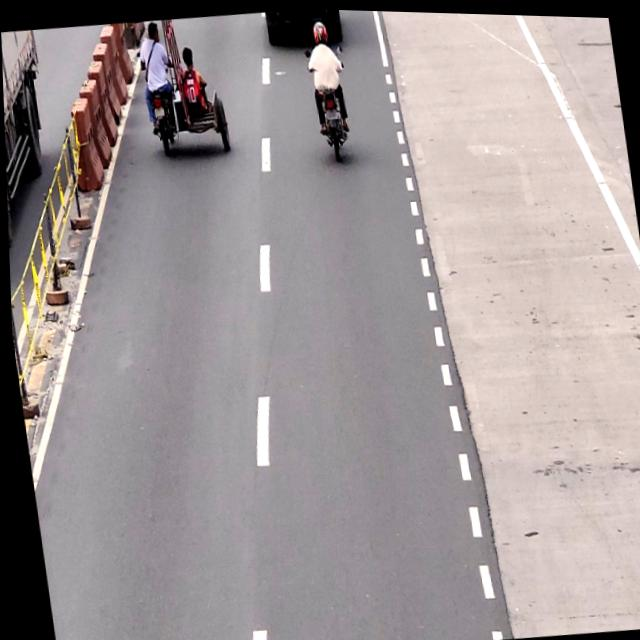Motorcycle: (303, 16, 355, 167)
Tricycle: (136, 13, 229, 155)
